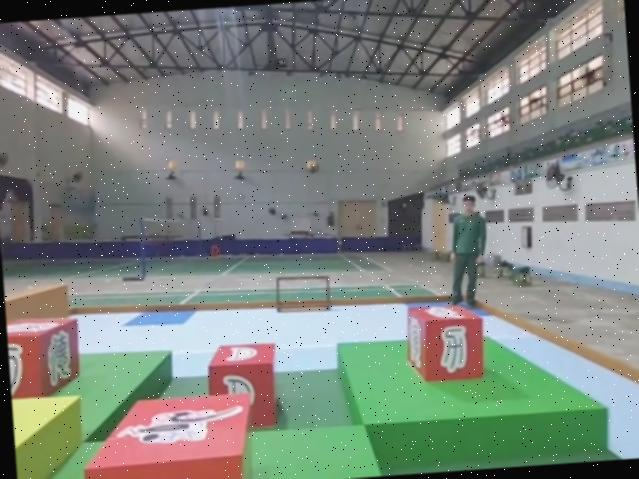R1: (78, 388, 254, 479)
R2 Fake: (401, 300, 486, 385), (5, 314, 82, 396)
R2 Real: (206, 339, 280, 428)
